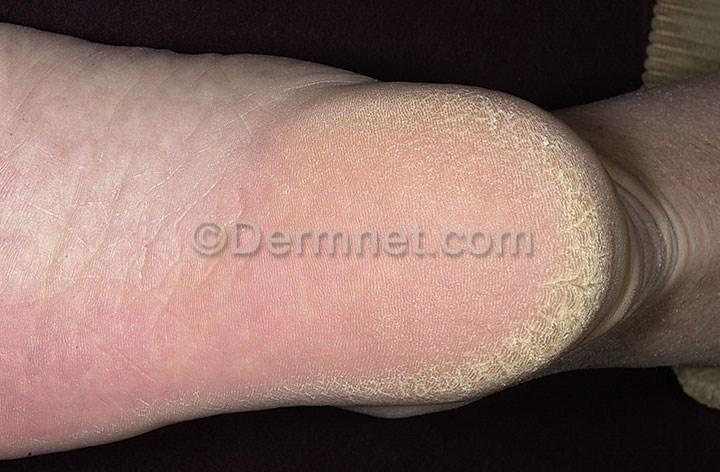Eczema: (42, 93, 123, 145), (510, 132, 576, 194), (538, 180, 590, 247), (201, 178, 259, 237), (19, 138, 76, 188), (477, 102, 529, 156), (294, 374, 379, 406), (12, 222, 67, 269), (274, 139, 333, 182), (389, 80, 446, 124), (543, 259, 592, 306), (239, 163, 292, 206), (49, 203, 100, 244), (431, 99, 496, 131), (184, 380, 250, 409), (147, 384, 191, 425), (585, 214, 615, 272), (32, 416, 76, 453), (506, 322, 548, 360), (472, 352, 528, 380), (85, 397, 122, 437), (581, 182, 598, 264), (514, 111, 556, 143), (430, 374, 478, 401), (365, 384, 433, 403), (121, 389, 166, 417), (548, 292, 571, 344), (260, 66, 289, 103), (354, 94, 396, 117), (244, 391, 299, 408), (0, 436, 42, 458), (582, 261, 601, 303), (179, 408, 216, 421)
